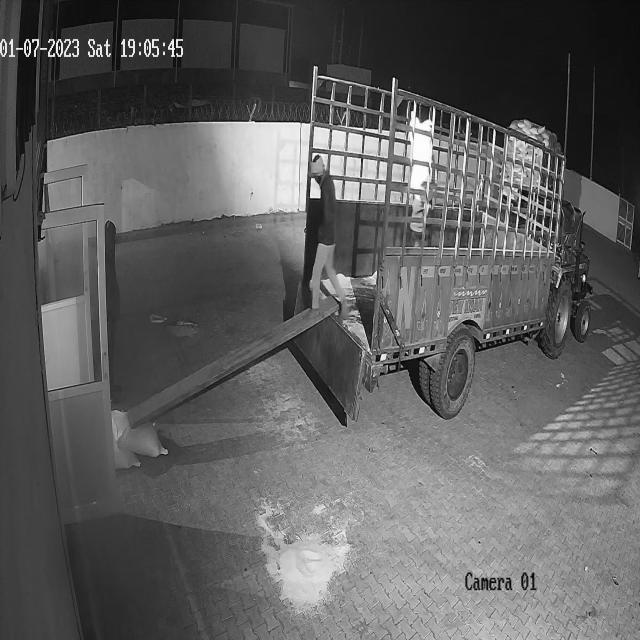sack: (111, 409, 167, 457)
